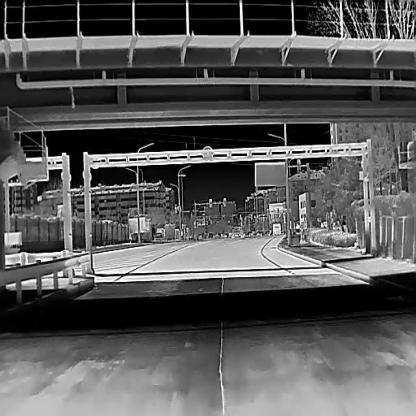car: (128, 215, 152, 242), (230, 225, 243, 238), (272, 222, 281, 236), (153, 231, 163, 241), (255, 230, 262, 236)
